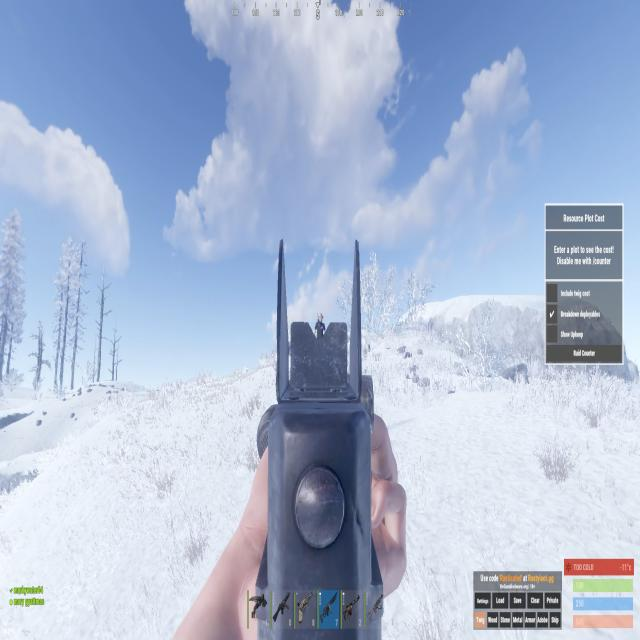Player: (314, 312, 326, 340)
